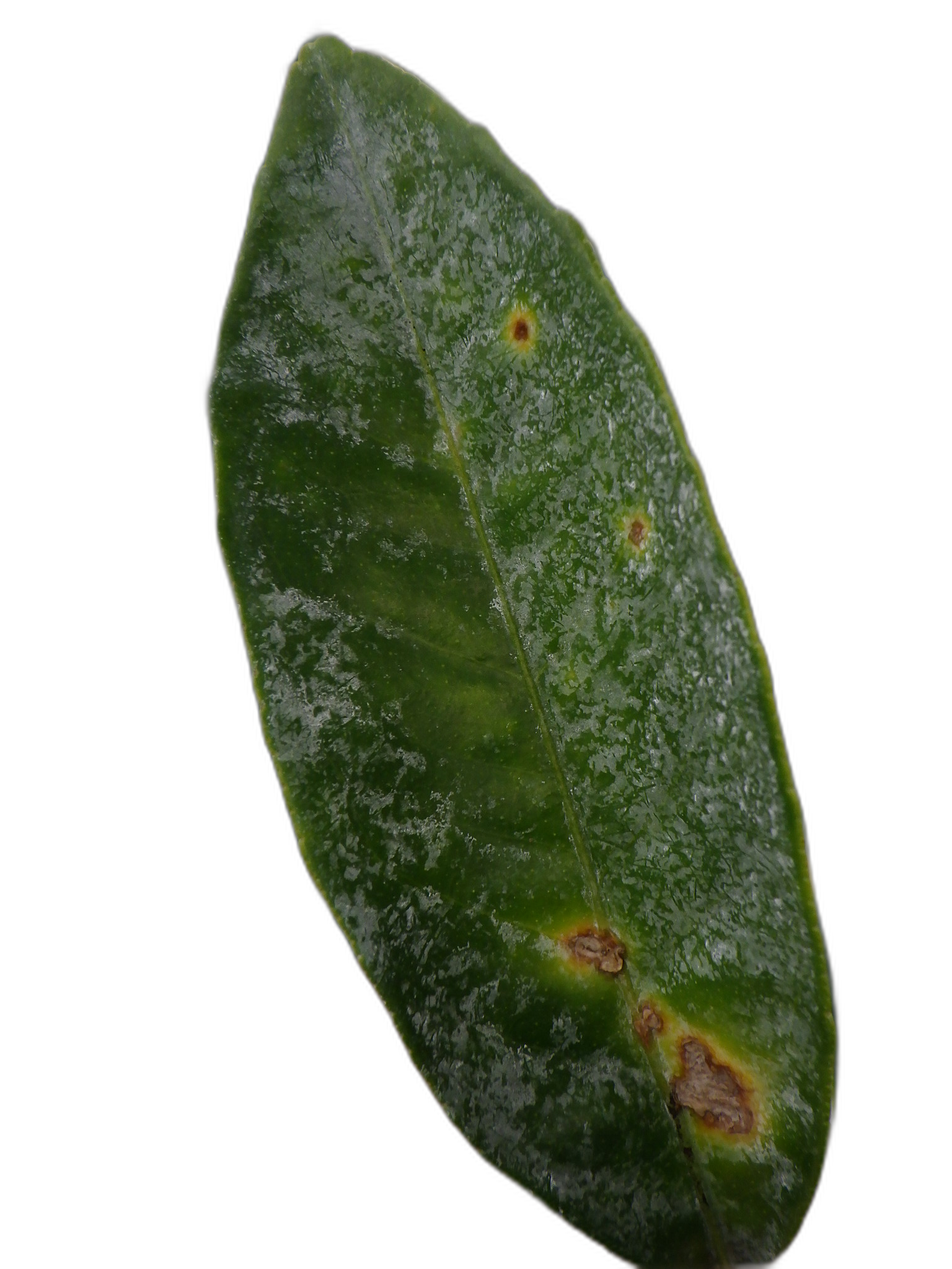Canker: (671, 1031, 761, 1143), (562, 923, 632, 981), (627, 1001, 671, 1053), (503, 305, 539, 360), (625, 516, 649, 548)
